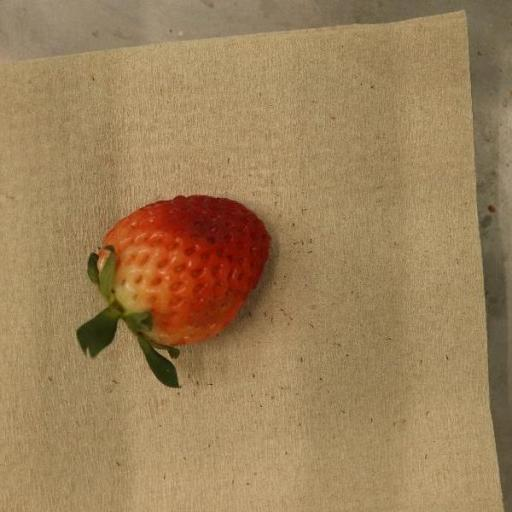Strawberry: (76, 195, 271, 389)
